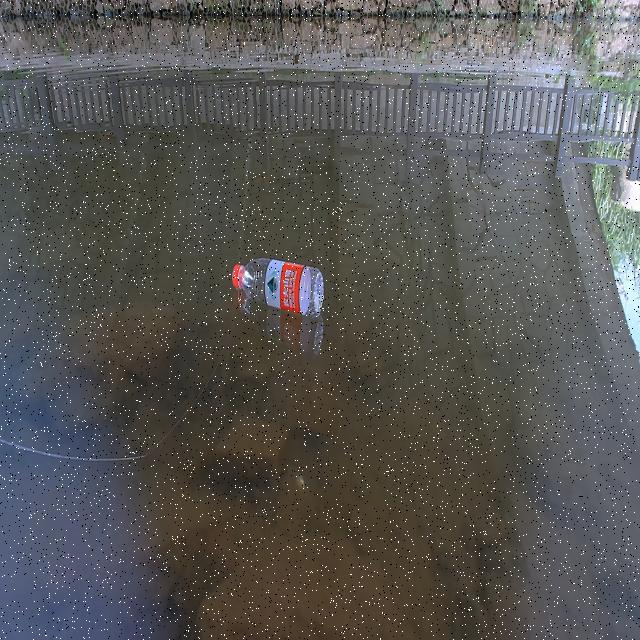Bottle: (231, 253, 325, 318)
